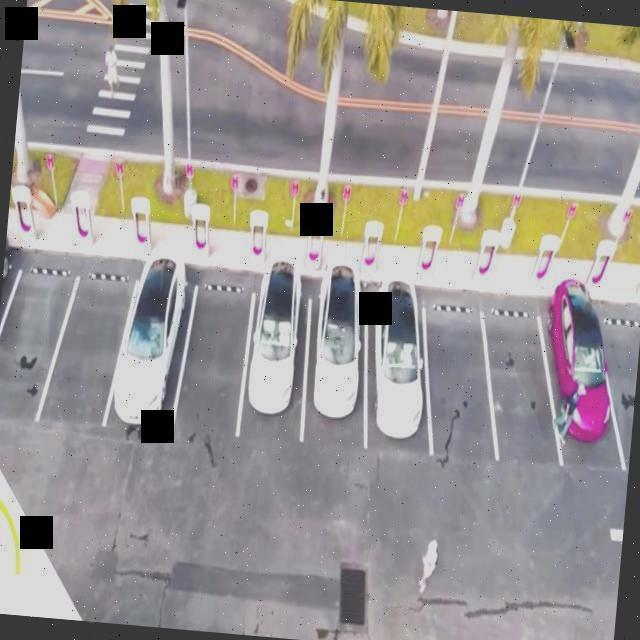space-empty: (468, 301, 575, 466), (414, 302, 506, 465), (51, 268, 126, 428), (179, 283, 255, 440), (0, 262, 67, 426), (591, 313, 640, 460)
space-occupied: (537, 286, 620, 463), (350, 297, 443, 451), (121, 276, 193, 442), (297, 298, 376, 436), (237, 292, 309, 440)
